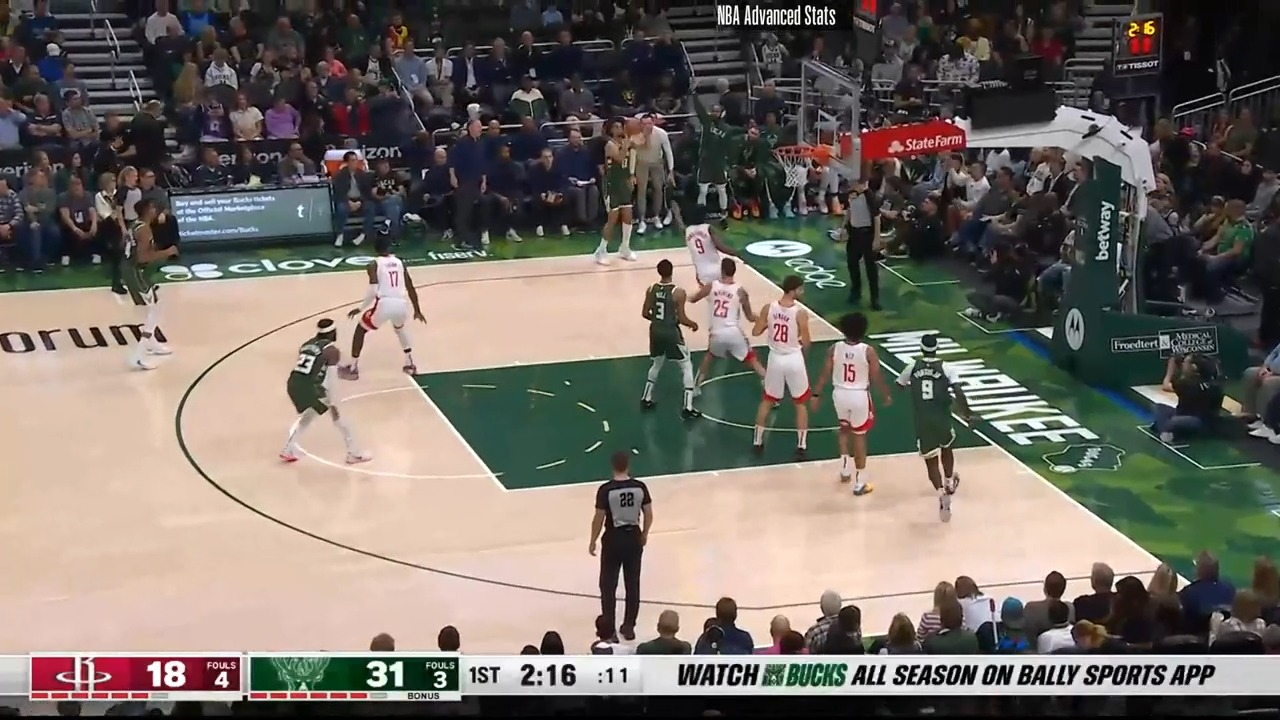net: (770, 139, 835, 189)
player: (811, 311, 890, 500), (737, 275, 816, 464), (902, 330, 978, 521), (277, 317, 367, 472), (346, 236, 432, 383), (682, 258, 763, 399), (640, 257, 709, 419), (120, 202, 177, 376), (589, 115, 643, 272), (678, 205, 737, 337)
referee: (581, 451, 655, 650), (838, 177, 885, 317), (99, 168, 143, 303)
